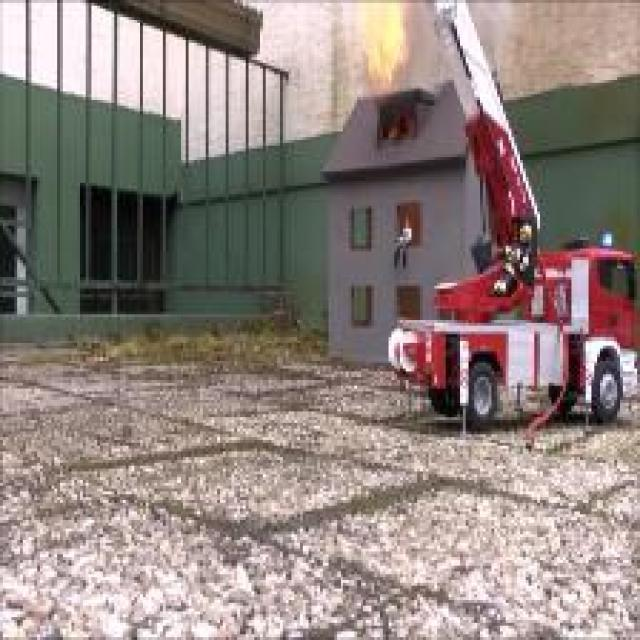Fire: (358, 1, 411, 93)
